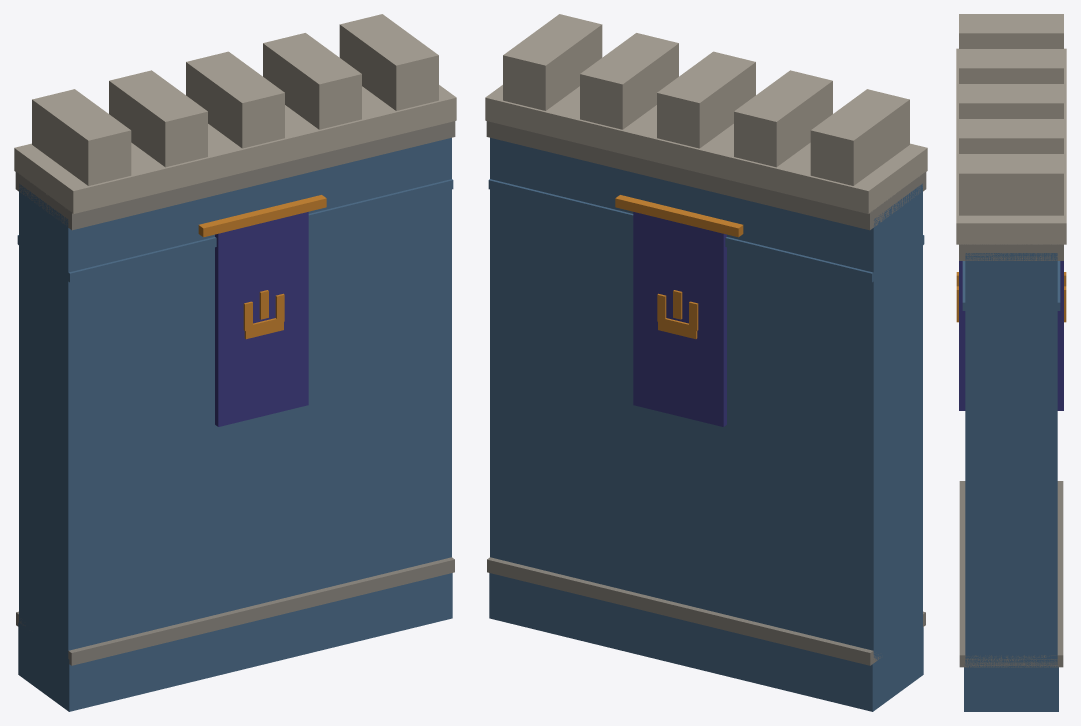
Rendered from high_crown_banner_wall.obj.
3 renders of one model, left to right at view 1: azimuth 30°, elevation 25°; view 2: azimuth 150°, elevation 25°; view 3: azimuth 270°, elevation 25°, orthographic. The views are drawn at different scales.
Visible parts, largest first — view 1: high_crown_banner_wall; view 2: high_crown_banner_wall; view 3: high_crown_banner_wall.
Part boxes in pixels (x1,y1,x2,y2): high_crown_banner_wall: (14, 14, 456, 711); high_crown_banner_wall: (485, 14, 927, 711); high_crown_banner_wall: (956, 14, 1066, 711).
Bounding box in the file's own units: 6.28 × 8.91 × 1.68.
